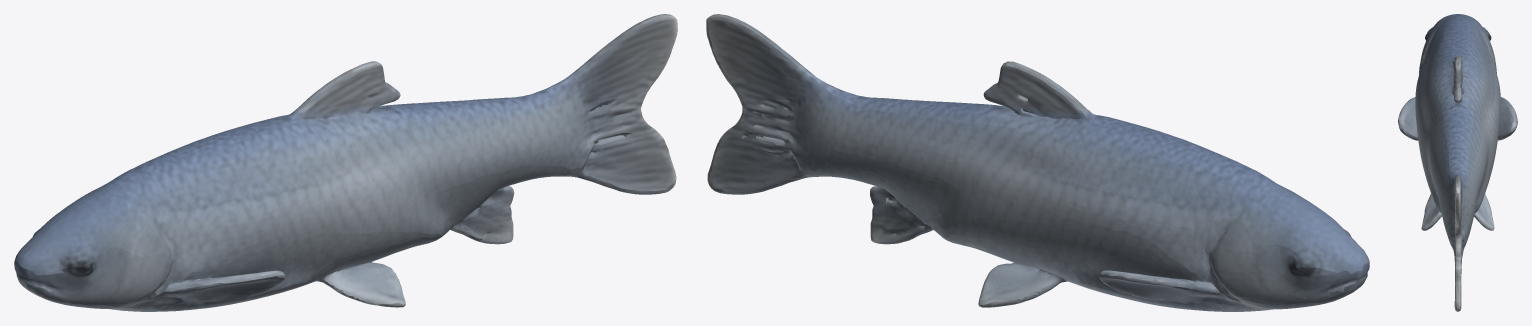
File: fish_truck.glb
The picture shows the model from 3 angles, left to right: view 1: azimuth 30°, elevation 25°; view 2: azimuth 150°, elevation 25°; view 3: azimuth 270°, elevation 25°; orthographic projection. The views are drawn at different scales.
Visible parts, largest first — view 1: world; view 2: world; view 3: world.
Part boxes in pixels (left/top/right/bottom): world: left=14, top=14, right=677, bottom=311; world: left=706, top=14, right=1369, bottom=311; world: left=1398, top=14, right=1517, bottom=311.
Bounding box in the file's own units: 0.6 × 0.2 × 0.1314.
1 material, 1 textured.
